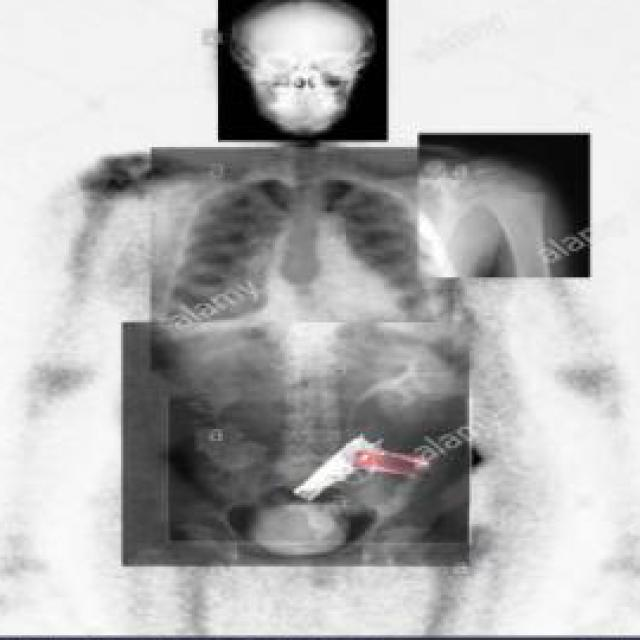pistol: (287, 434, 434, 507)
